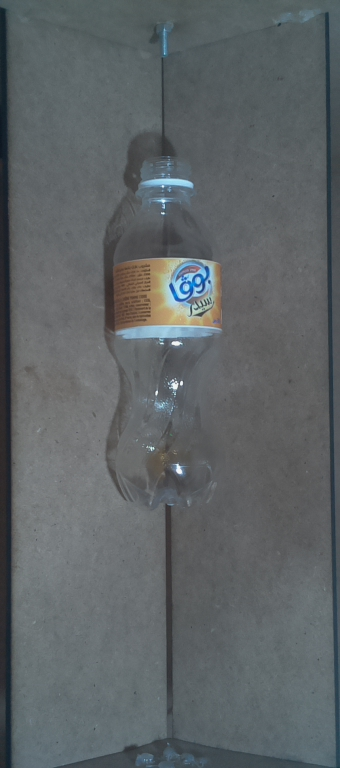Bouteille_0.3L: (103, 143, 238, 522)
